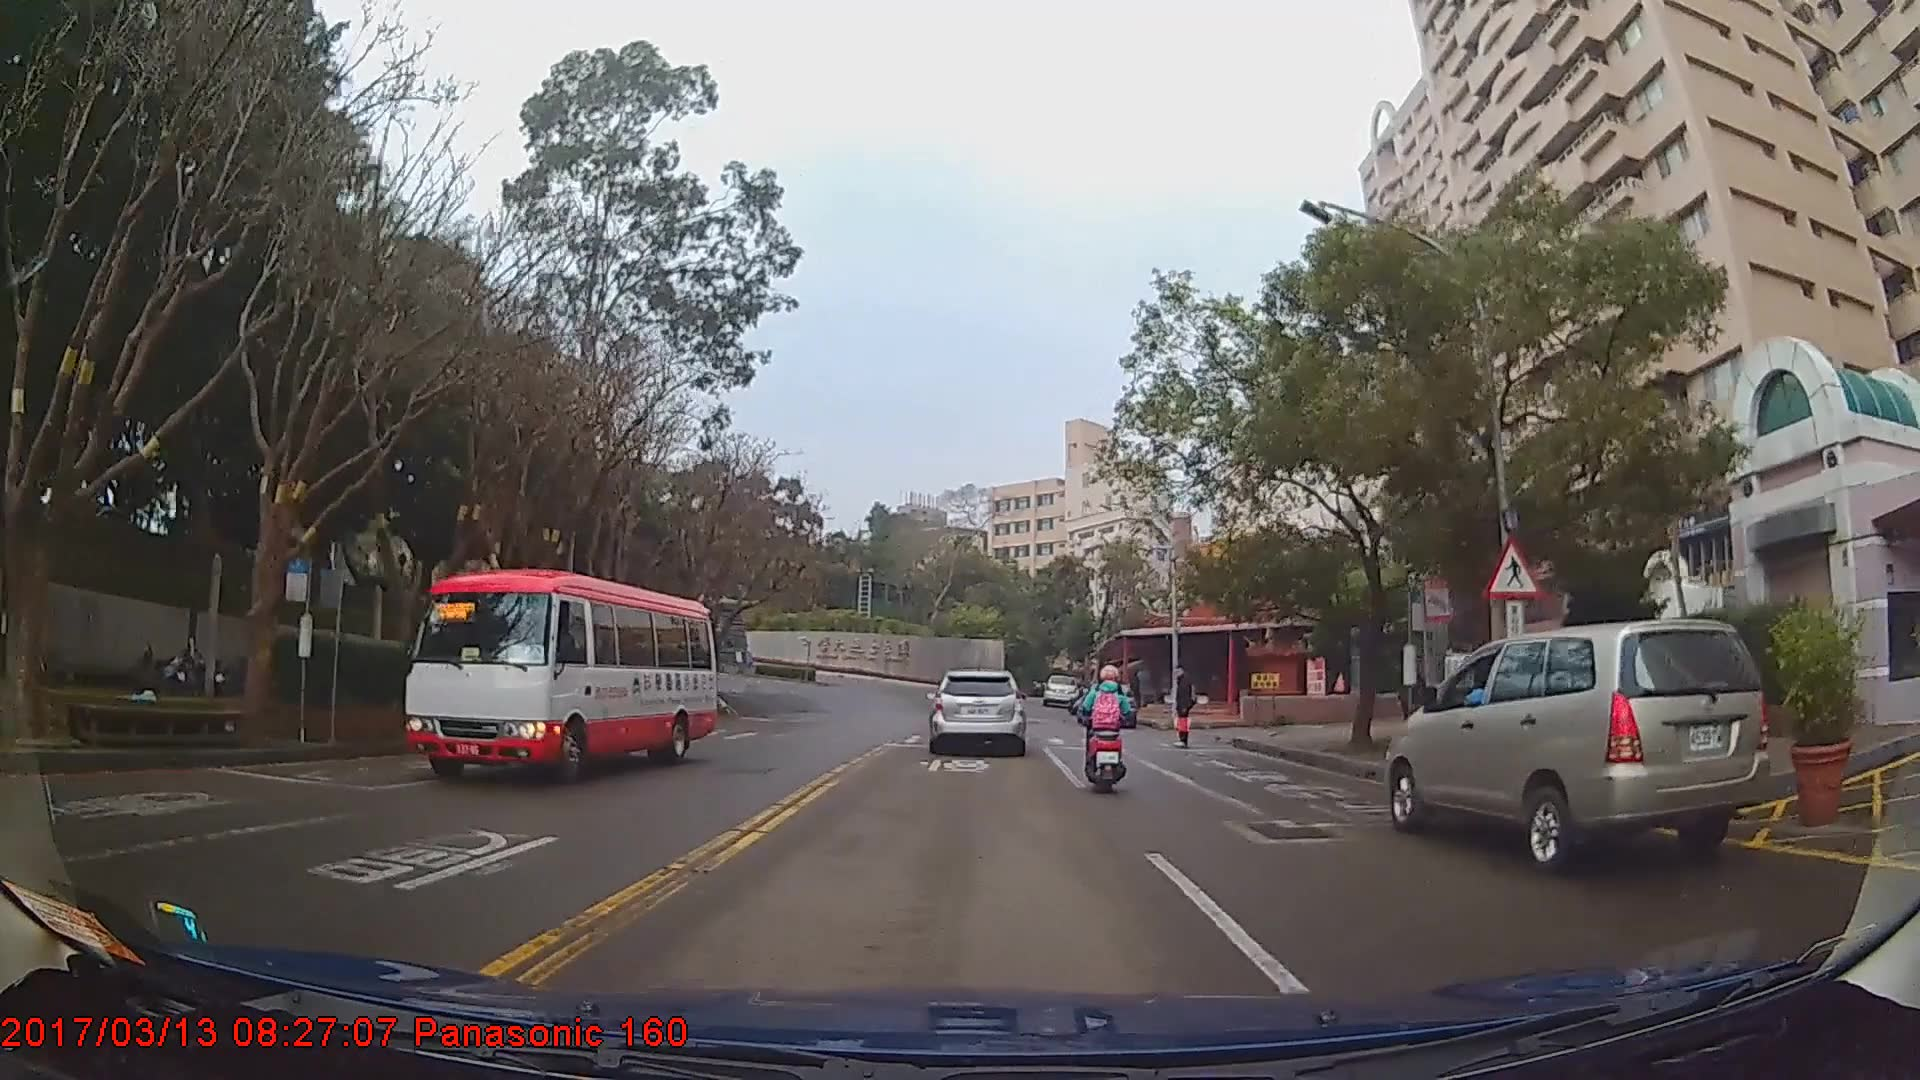pedestrian: (1170, 668, 1198, 752)
rider: (1076, 666, 1133, 796)
vehicle: (1385, 618, 1771, 873), (406, 567, 716, 785), (925, 670, 1027, 757), (1043, 673, 1080, 706)
